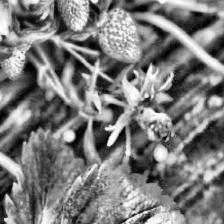Gray Mold: (104, 63, 176, 157)
